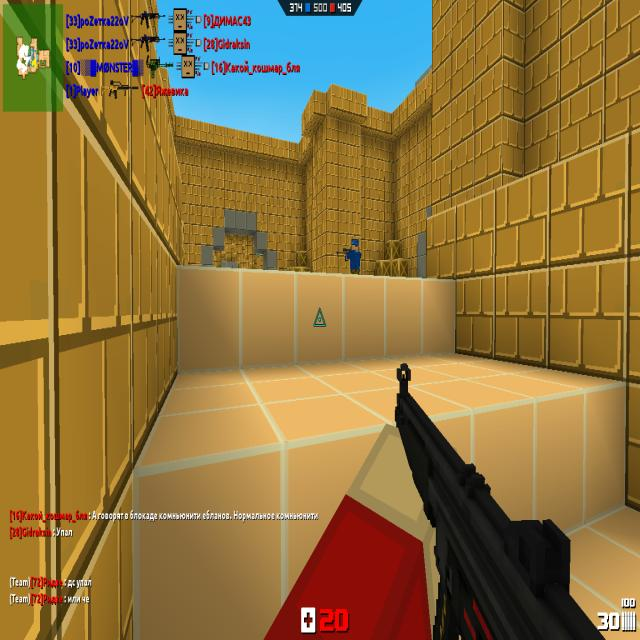enemy: (344, 238, 362, 274)
